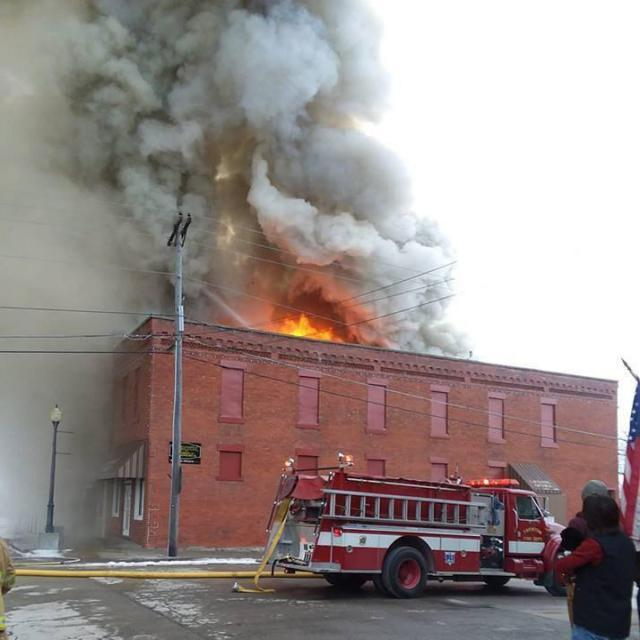Fire: (260, 246, 341, 358)
